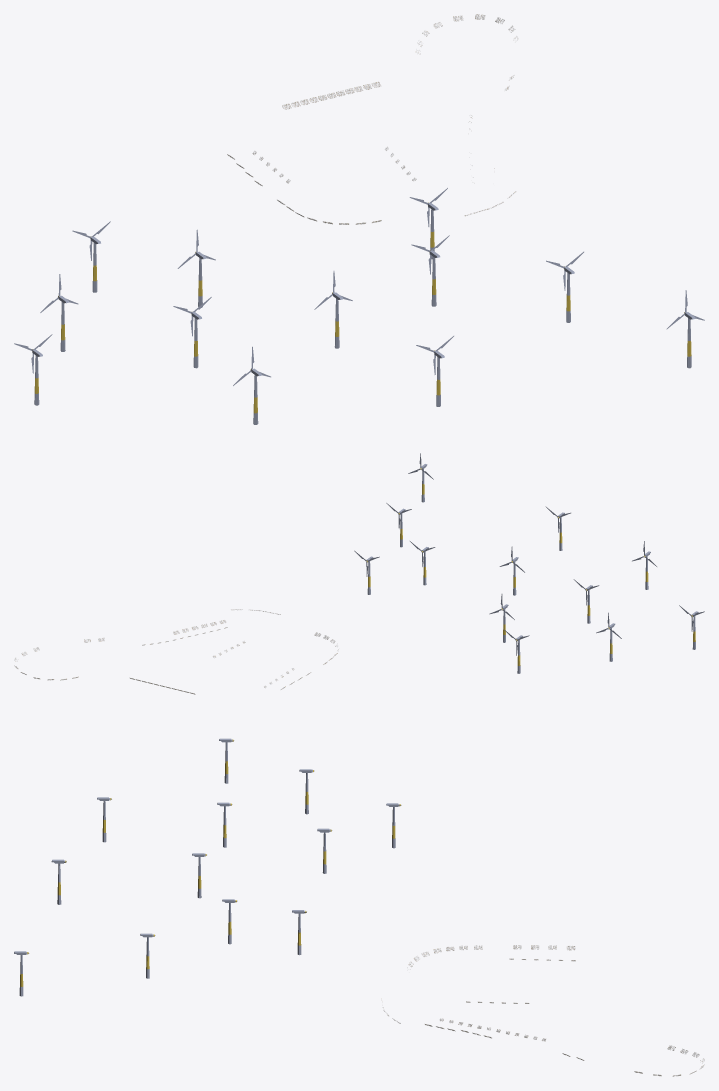
File: may13gfjp.animation.glb
3 renders of one model, top to bottom at view 1: azimuth 30°, elevation 25°; view 2: azimuth 150°, elevation 25°; view 3: azimuth 270°, elevation 25°, orthographic. The views are drawn at different scales.
Parts seen in each view (by area): view 1: VIEWERS_B; view 2: no part large enough to name; view 3: no part large enough to name.
Boxes of the visible parts, box(x1,y1,x2,y2) form: VIEWERS_B: box(227, 14, 515, 224).
Bounding box in the file's own units: 2296 × 253 × 2199.
Materials: 11 (9 with a texture image).
